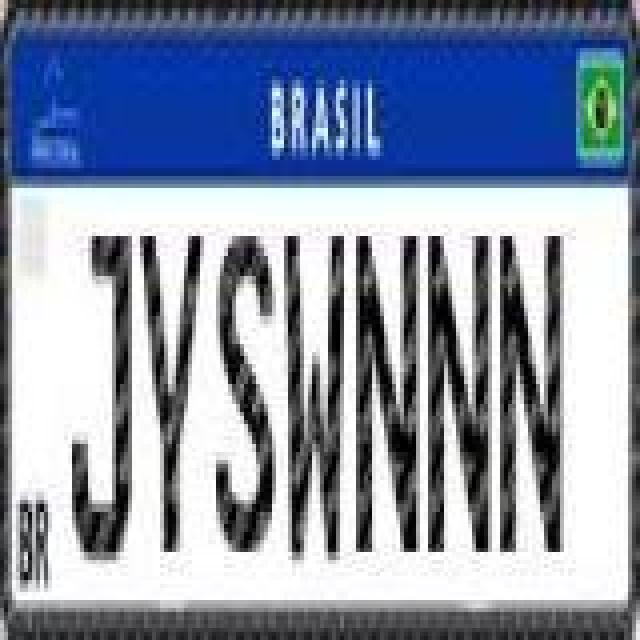J: (70, 232, 138, 568)
N: (494, 224, 562, 560), (356, 224, 420, 560), (424, 230, 488, 554)
S: (216, 230, 280, 554)
W: (280, 232, 344, 568)
Y: (138, 224, 206, 560)
